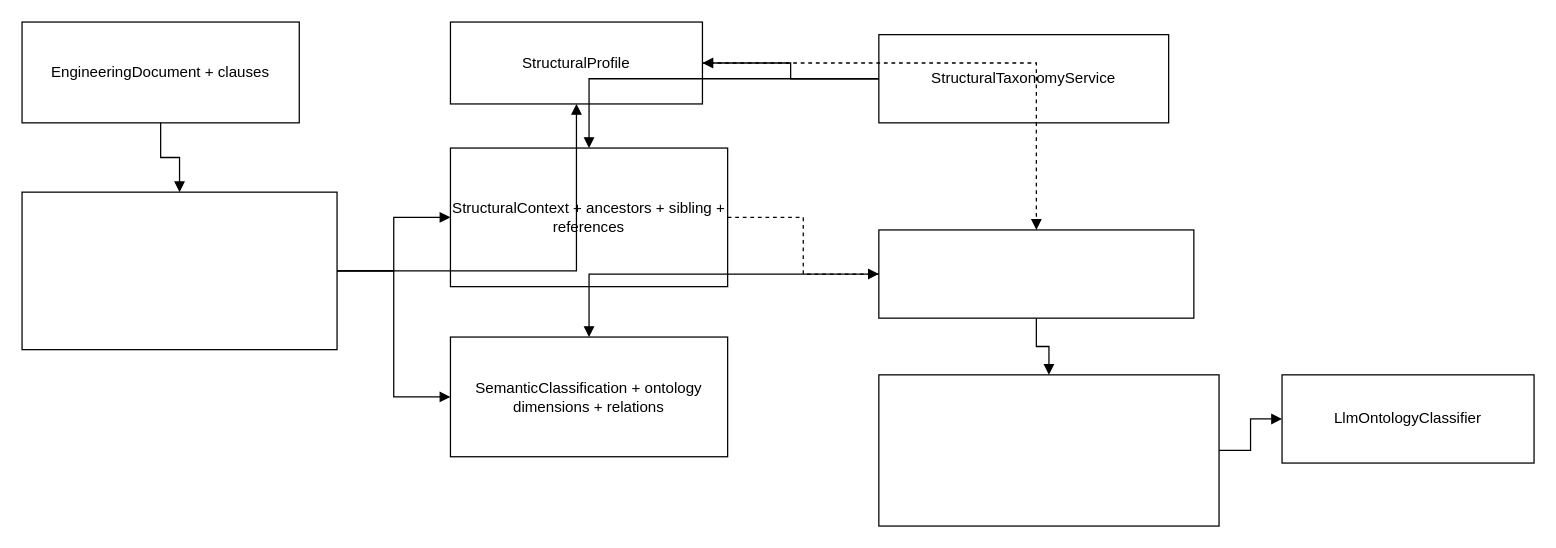
This 1556x548 diagram has some shape labels left out. The shapes that lost their labels are listed below. From the top down, each one's centre as x and y in pixels, then its label:
point 179,270: Clause + structural_profile + structural_context + semantic_classification
point 1036,273: OntologyClassificationService
point 1048,450: OntologyEngine OntologyRegistry OntologyDefinitionRepository
